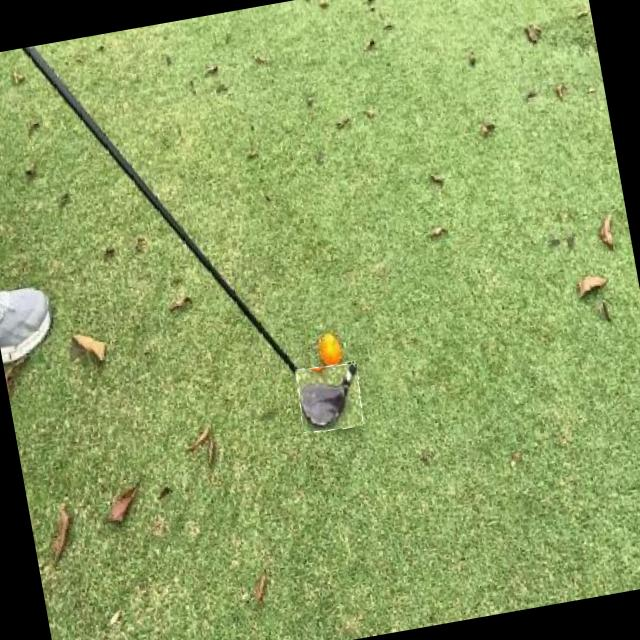club head: (294, 360, 366, 434)
